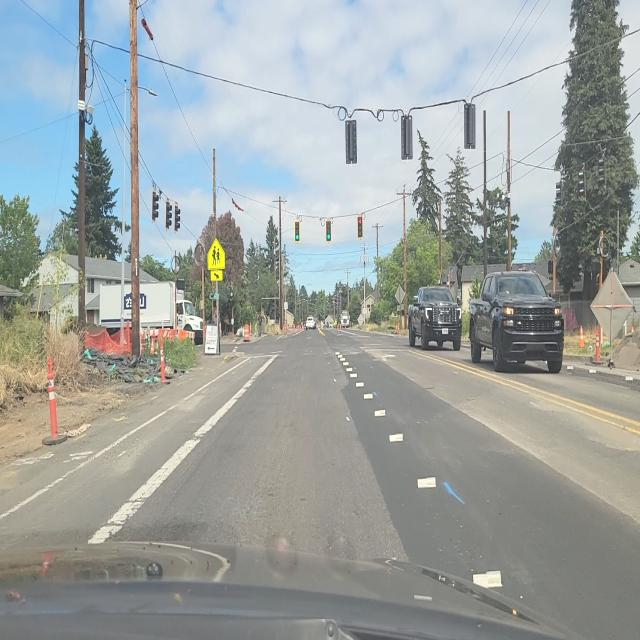car: (465, 269, 565, 372), (405, 285, 461, 351), (305, 316, 316, 331)
crosswalk-sign: (208, 239, 226, 272)
delineator: (46, 358, 61, 439), (158, 335, 167, 383), (594, 324, 602, 364), (124, 322, 130, 353), (149, 330, 155, 356), (578, 324, 584, 348), (601, 324, 606, 345), (140, 329, 144, 352), (179, 328, 186, 339), (274, 322, 278, 334), (285, 323, 289, 333), (249, 322, 252, 335), (630, 326, 634, 334)
